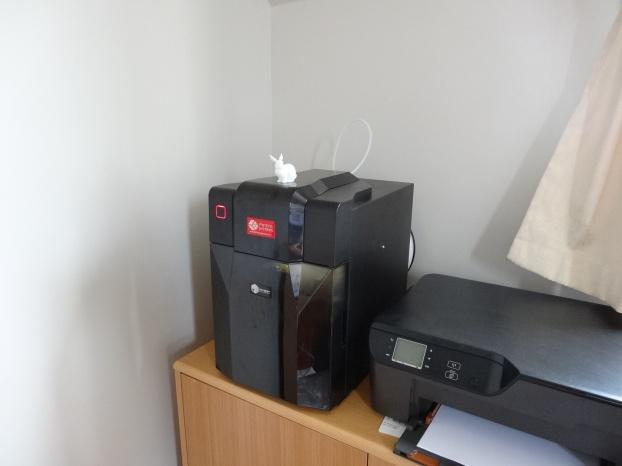Printer: (366, 271, 621, 465)
